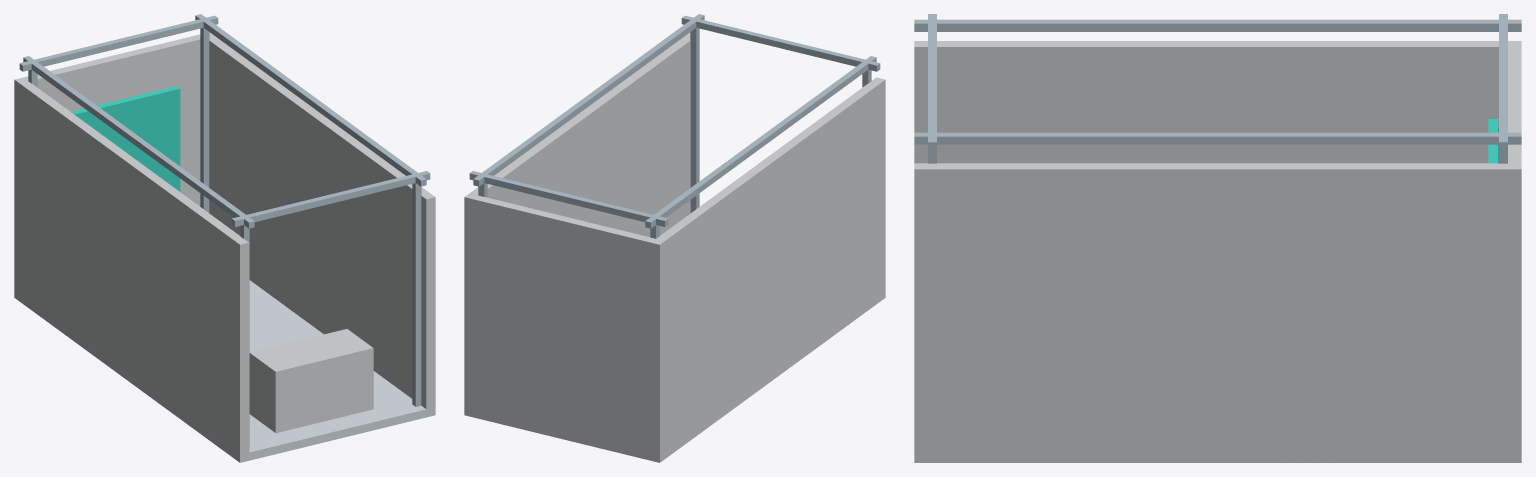
3 views of the same model, side by side, from view 1: azimuth 30°, elevation 25°; view 2: azimuth 150°, elevation 25°; view 3: azimuth 270°, elevation 25° (orthographic). The views are drawn at different scales.
Parts seen in each view (by area): view 1: Exhibition Booth Concept; view 2: Exhibition Booth Concept; view 3: Exhibition Booth Concept.
Boxes of the visible parts, x1,y1,x2,y2 form: Exhibition Booth Concept: (14,14,435,462); Exhibition Booth Concept: (464,14,885,462); Exhibition Booth Concept: (914,14,1521,462).
Size of the model in its own units: 3 by 3.49 by 6.
